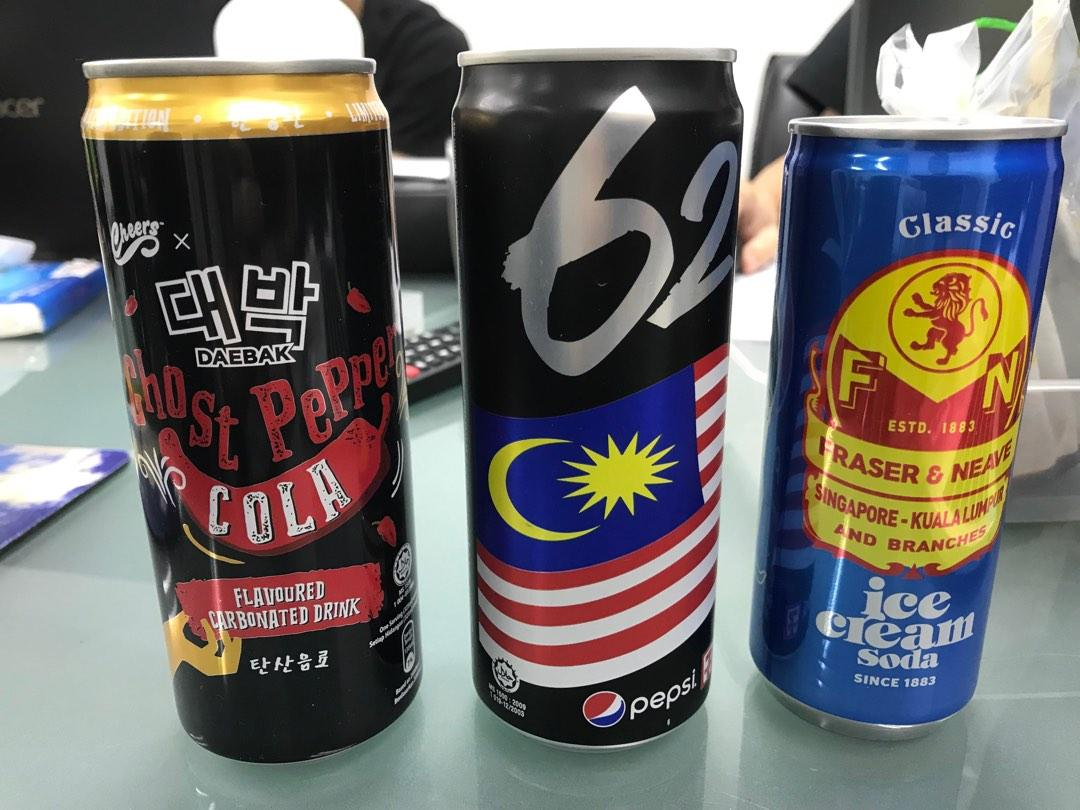metal: (81, 54, 424, 763), (446, 43, 743, 753), (753, 111, 1061, 729)
